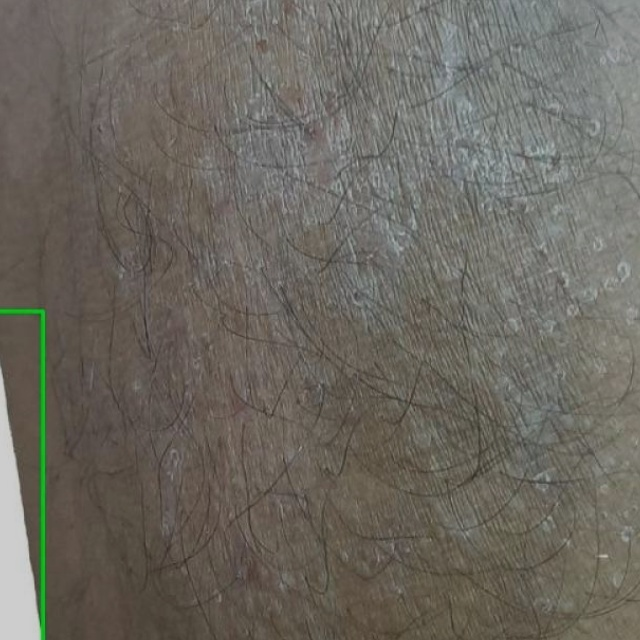Contact Dermatitis: (0, 311, 44, 639)
